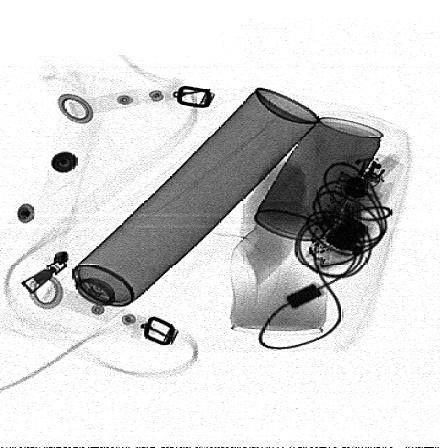Sprayer: (43, 87, 319, 324)
